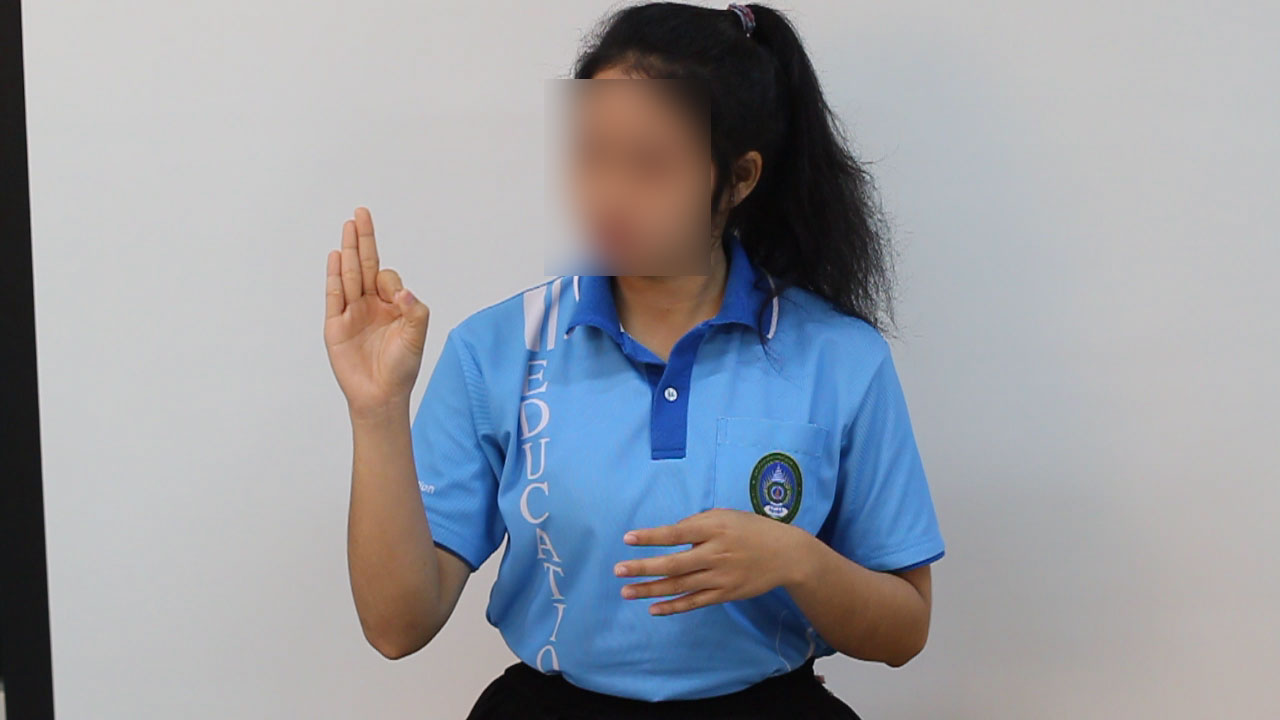for: (314, 199, 441, 429)
